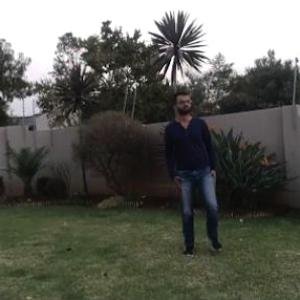follow: (163, 79, 224, 265)
